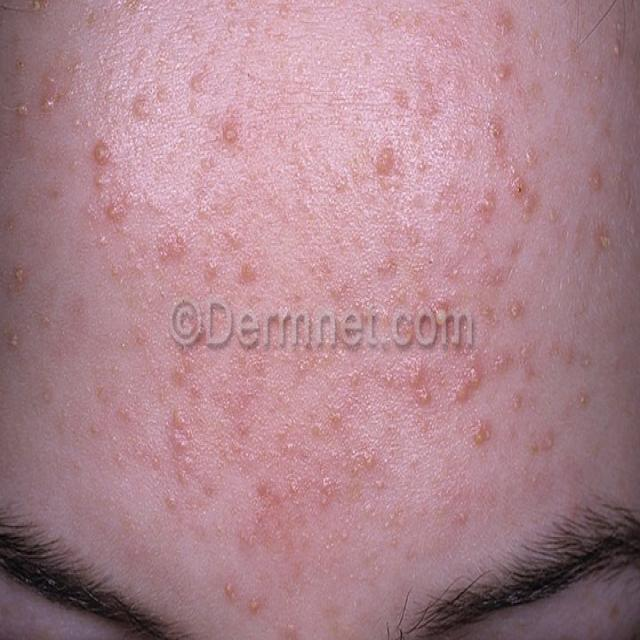Acne: (406, 353, 432, 411), (168, 402, 194, 456), (156, 230, 188, 266), (256, 478, 284, 512), (374, 250, 400, 280), (472, 414, 494, 449), (318, 470, 336, 512), (418, 84, 439, 120), (592, 222, 613, 256), (374, 146, 396, 178), (486, 116, 506, 150), (92, 134, 111, 168), (479, 188, 499, 220), (130, 92, 152, 120), (188, 70, 210, 98), (103, 196, 122, 226), (239, 259, 259, 287), (454, 378, 474, 406), (446, 258, 466, 286), (222, 120, 240, 150), (588, 166, 606, 196), (202, 255, 222, 281), (492, 350, 512, 376), (344, 363, 362, 391), (330, 403, 346, 434), (466, 363, 484, 390), (12, 260, 28, 290), (222, 576, 238, 606), (494, 58, 512, 84), (495, 12, 511, 41), (224, 225, 244, 248), (434, 302, 449, 332), (510, 173, 526, 201), (508, 390, 524, 418), (393, 84, 410, 110), (12, 52, 30, 76), (247, 590, 262, 618), (454, 502, 469, 530), (508, 296, 524, 322), (6, 327, 22, 353), (132, 322, 148, 348), (609, 36, 625, 60), (575, 386, 591, 410), (42, 66, 58, 90), (360, 446, 376, 470), (522, 144, 538, 168), (14, 96, 30, 119), (40, 94, 56, 116), (542, 428, 556, 453), (164, 488, 178, 512), (518, 341, 532, 364), (30, 0, 46, 15)
